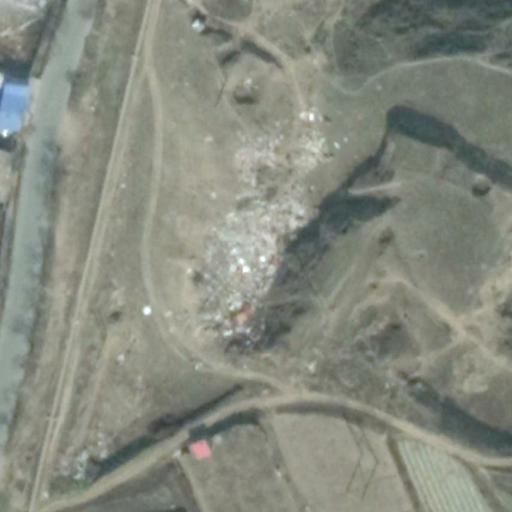msw: (200, 114, 345, 358)
